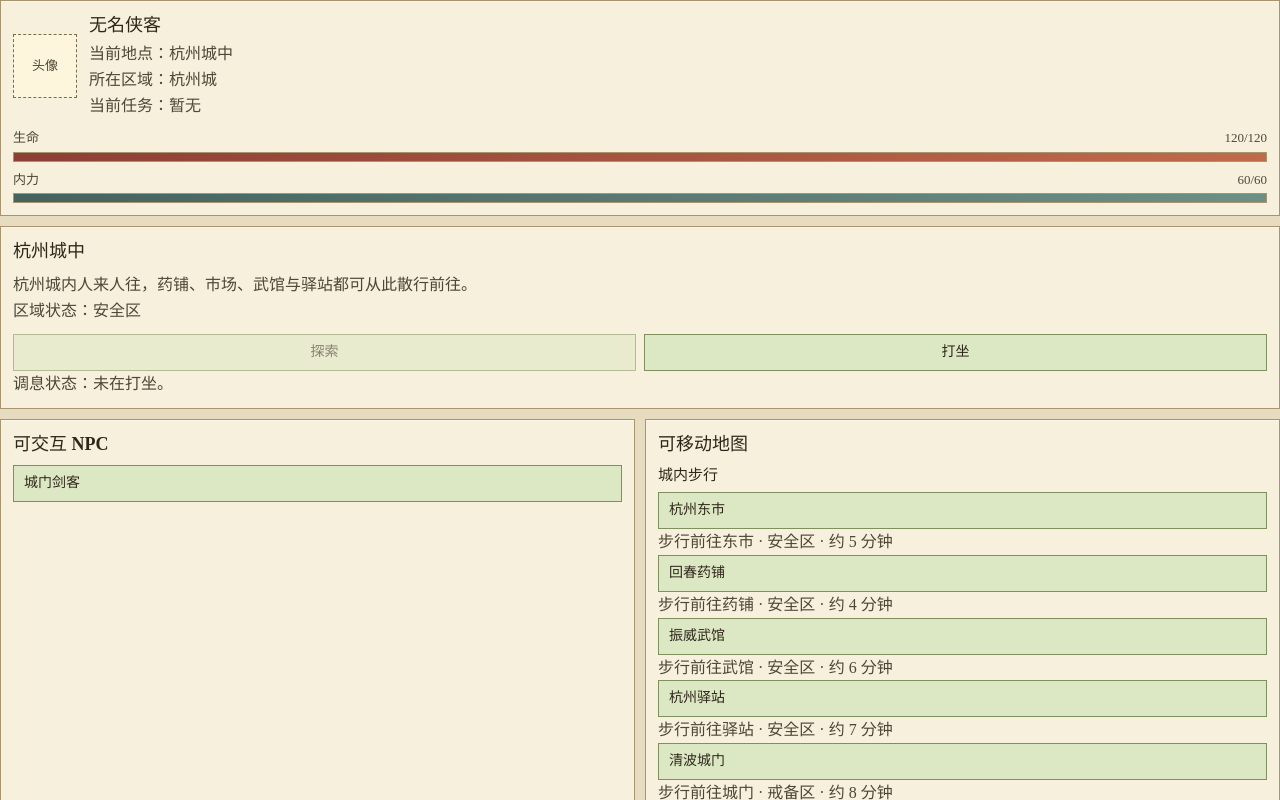
Scenario: ScenePage › keeps the npc dialog open after accepting the first quest
What coordinates should you click on to do the following:
click the button "城门剑客"
I would click on:
 (52, 483)
Its box is [13,465,622,502].
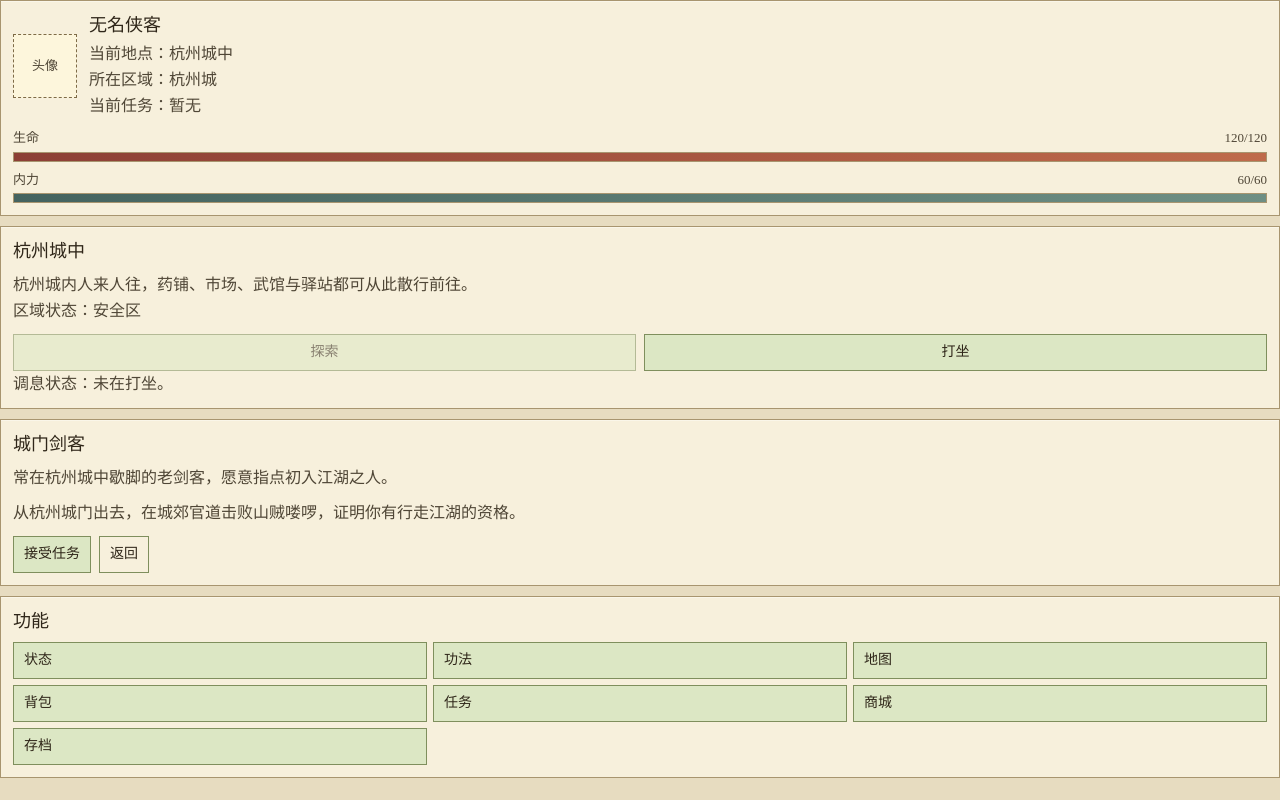
What coordinates should you click on to do the following:
click the button "接受任务"
I would click on:
 (52, 555)
Its box is [13,536,91,573].
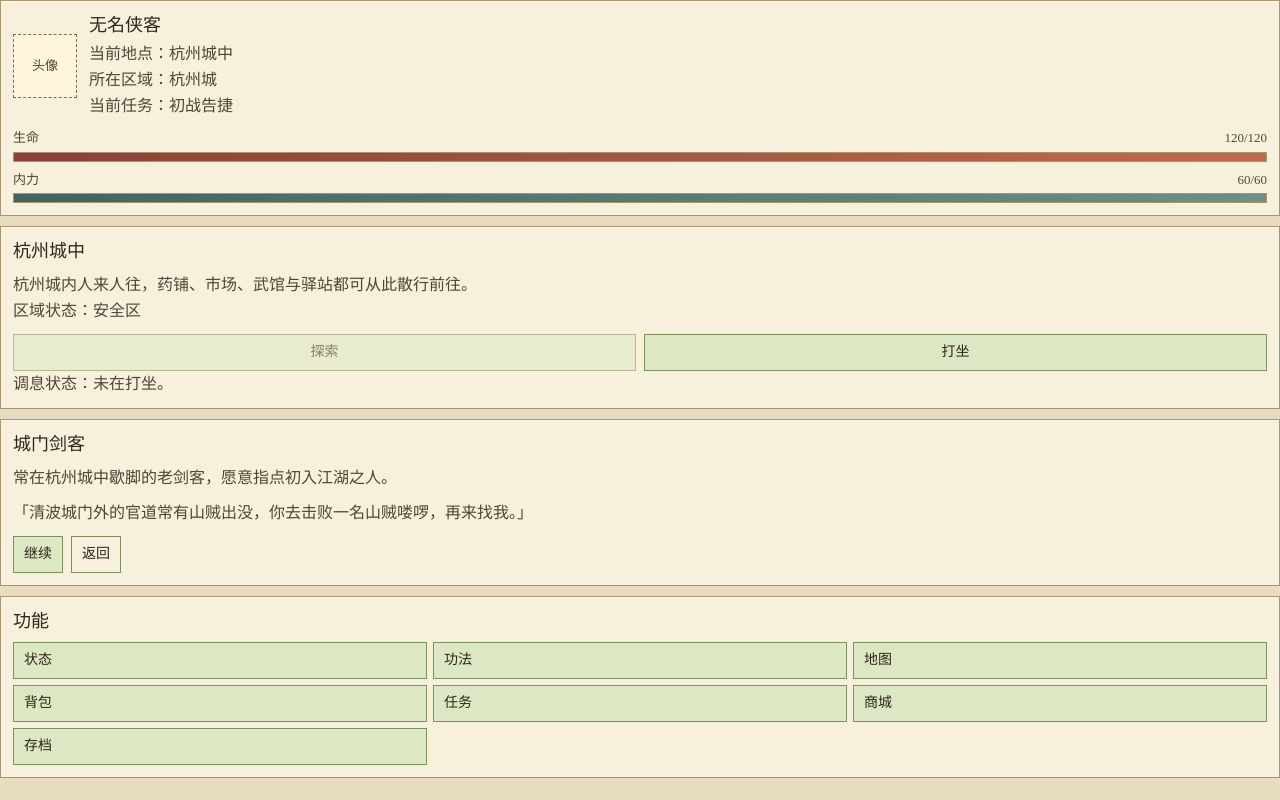
Check: the heading "城门剑客" is shown, box [13,434,85,454]
Check: the text "「清波城门外的官道常有山贼出没，你去击败一名山贼喽啰，再来找我。」" is shown, box [13,504,533,521]
